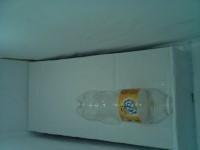bottle: (76, 87, 174, 126)
